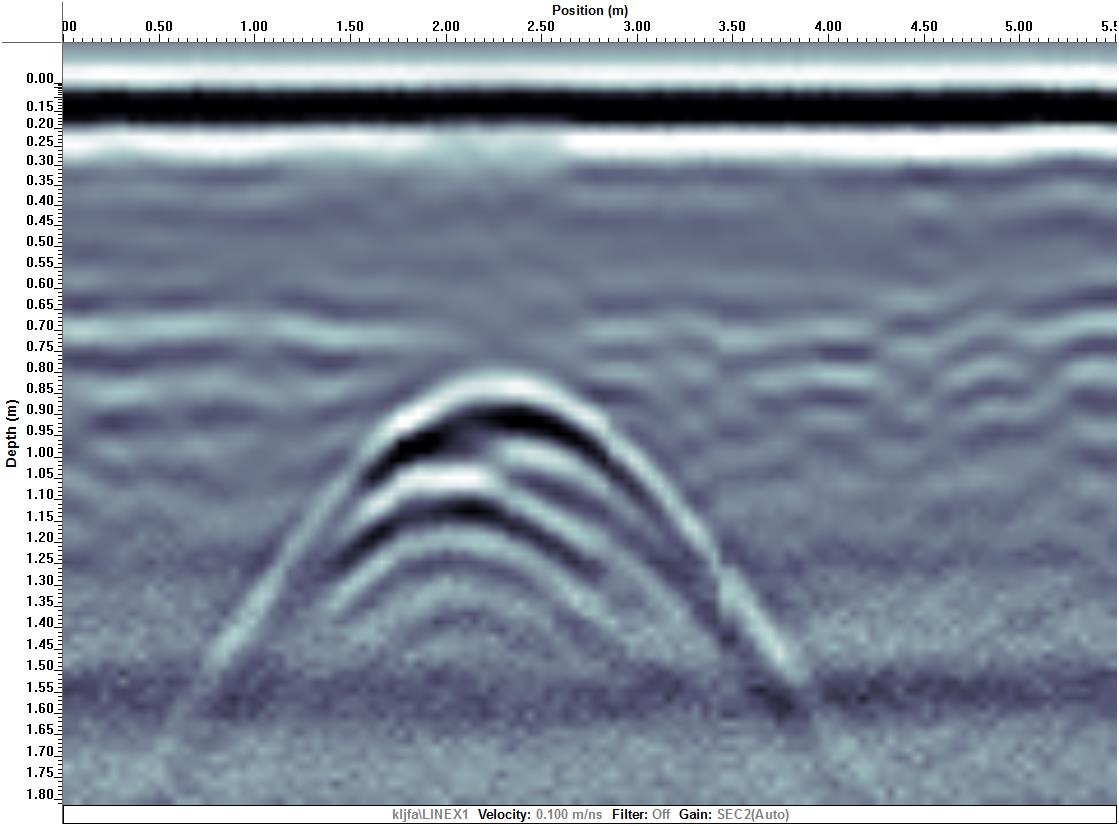hyperbola: (228, 362, 783, 671)
